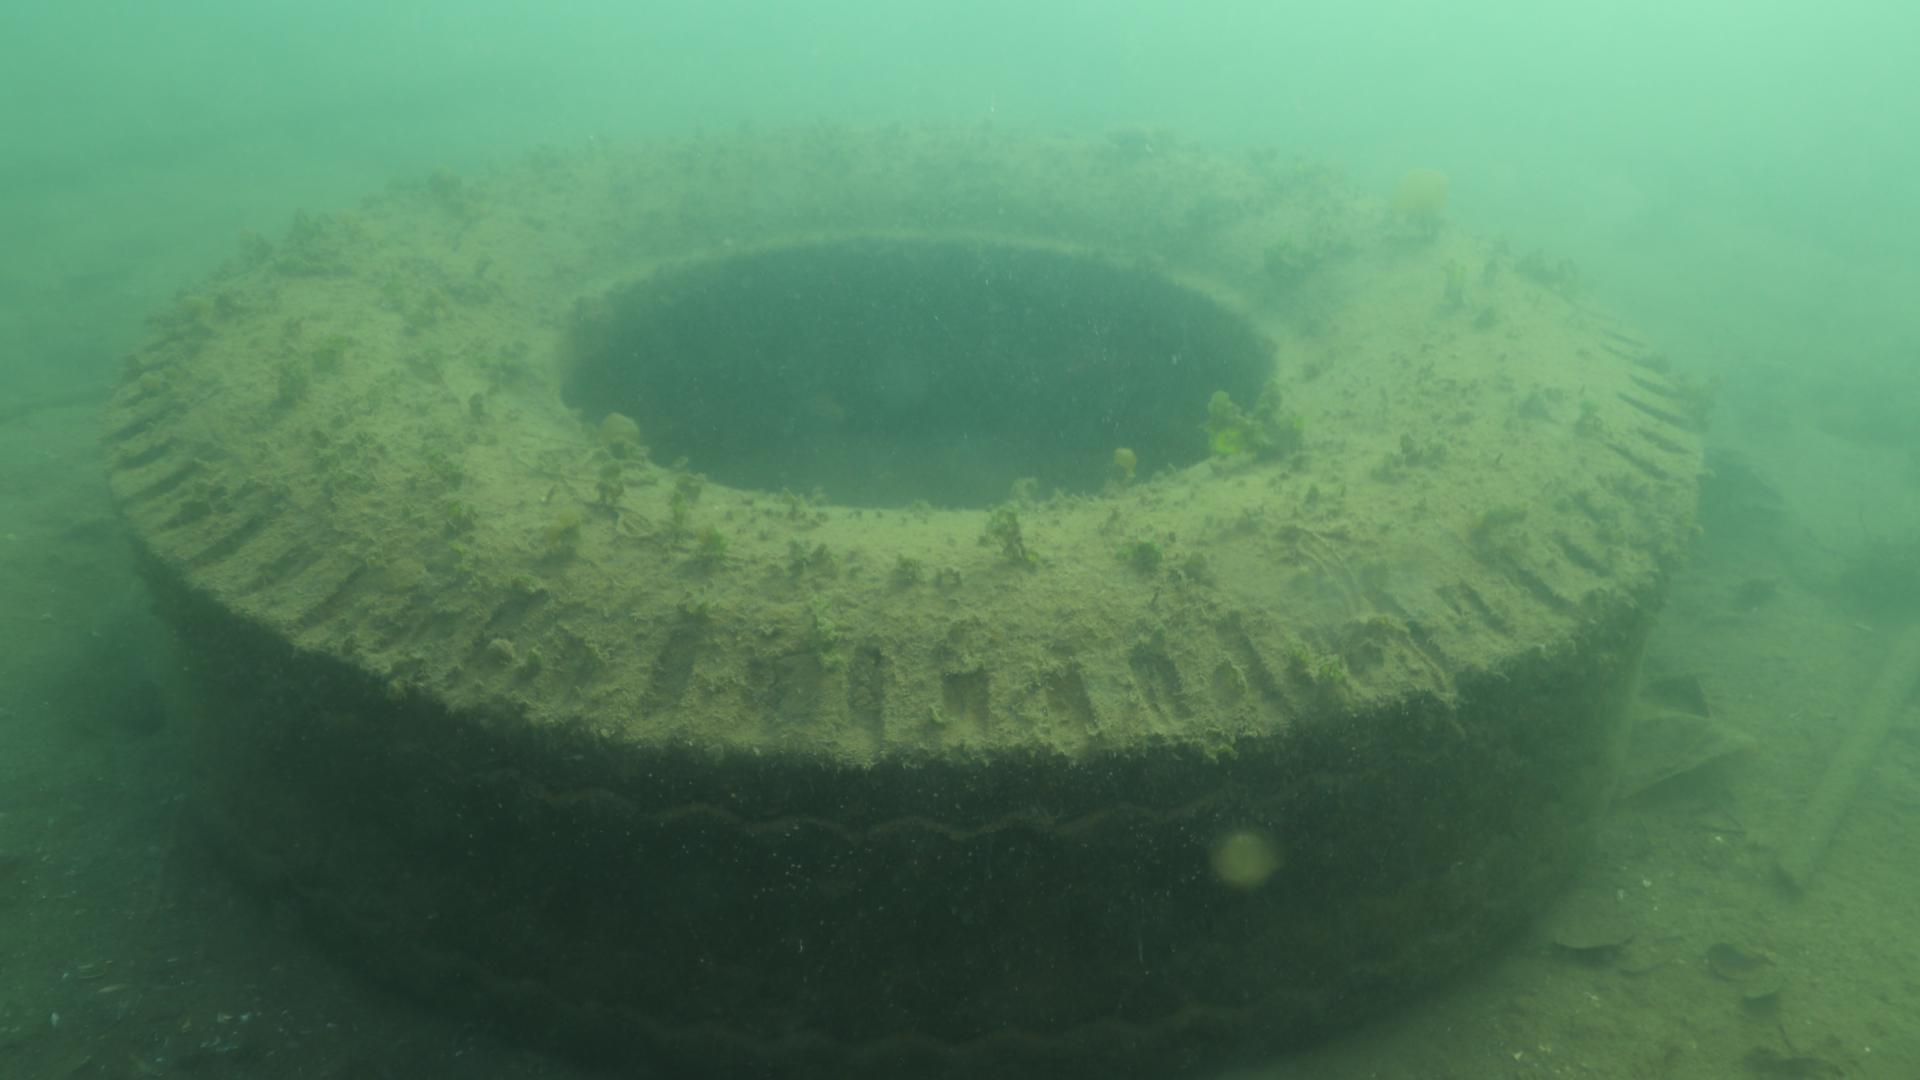tire: (96, 117, 1702, 1080)
